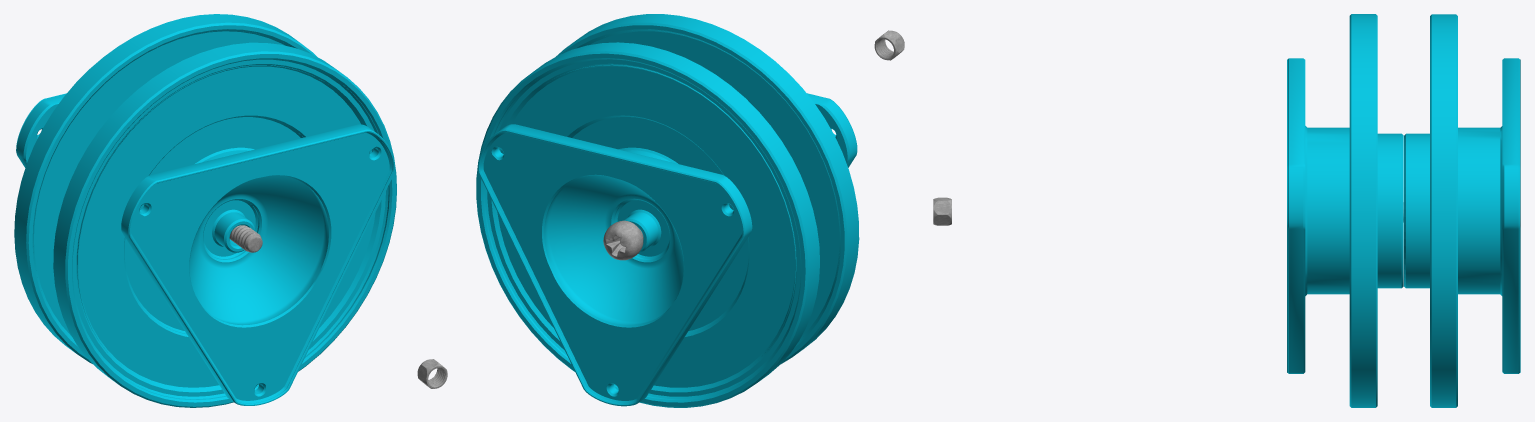
The picture shows the model from 3 angles, left to right: view 1: azimuth 30°, elevation 25°; view 2: azimuth 150°, elevation 25°; view 3: azimuth 270°, elevation 25°; orthographic projection. The views are drawn at different scales.
Parts seen in each view (by area): view 1: Cylinder.001, Cylinder.005, pan head screw (bolt).002, Hex Nut.002; view 2: Cylinder.005, Cylinder.001, pan head screw (bolt).002, Hex Nut.002; view 3: Cylinder.001, Cylinder.005, Hex Nut.002.
Part boxes in pixels (box(x1,y1,x2,y2)): Cylinder.001: box(53, 42, 396, 407); Cylinder.005: box(14, 14, 316, 363); pan head screw (bolt).002: box(229, 225, 262, 252); Hex Nut.002: box(417, 359, 447, 388); Cylinder.005: box(476, 42, 819, 407); Cylinder.001: box(556, 14, 859, 363); pan head screw (bolt).002: box(603, 220, 643, 260); Hex Nut.002: box(874, 30, 904, 60); Cylinder.001: box(1287, 14, 1403, 407); Cylinder.005: box(1404, 14, 1520, 407); Hex Nut.002: box(933, 197, 951, 225).
Size of the model in its own units: 1.79 by 1.79 by 2.68.
Materials: 3 (2 with a texture image).
